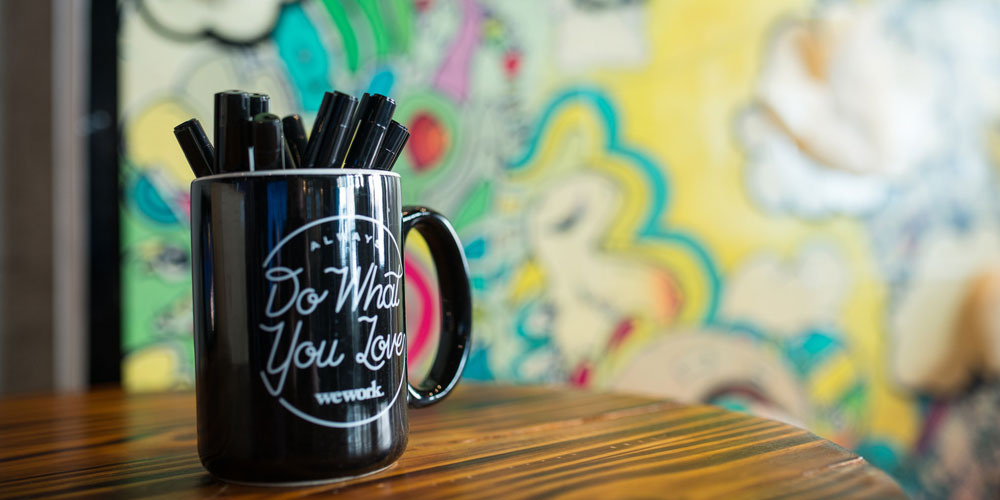wework: (312, 376, 382, 408)
